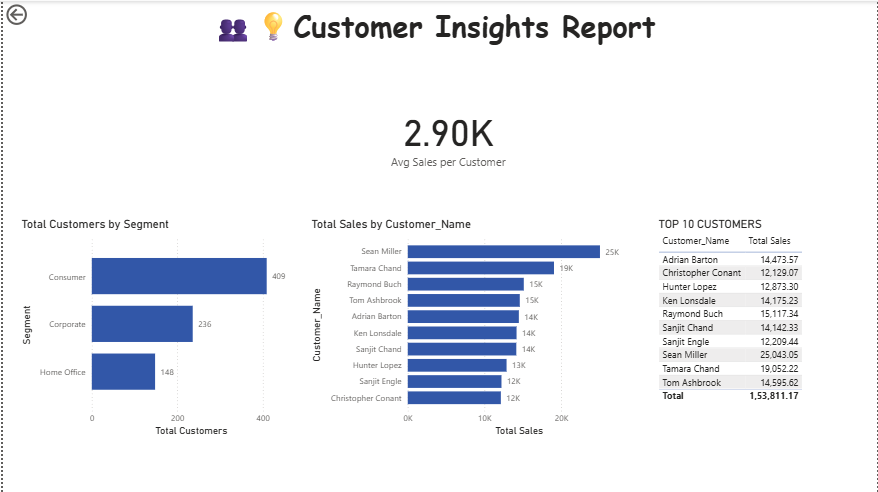

The page's visual inventory and layout, read from the dashboard file:
{"tool":"powerbi","page":{"name":"Customer Insights","canvas":[1280,720],"ordinal":1},"visuals":[{"type":"card","fields":{"Values":["Measure_Table.Avg Sales per Customer"]},"box":[552.3,106.2,200,180],"z":0},{"type":"tableEx","title":"TOP 10 CUSTOMERS","fields":{"Values":["Customers.Customer_Name","Measure_Table.Total Sales"]},"box":[954.3,315.7,292.9,318.6],"z":1000},{"type":"clusteredBarChart","fields":{"Category":["Customers.Segment"],"Y":["Measure_Table.Total Customers"]},"box":[21.4,315.7,414.3,325.7],"z":2000},{"type":"clusteredBarChart","fields":{"Category":["Customers.Customer_Name"],"Y":["Measure_Table.Total Sales"]},"box":[445.7,315.7,487.1,325.7],"z":3000},{"type":"textbox","box":[303.1,0,726.2,76.9],"z":4000},{"type":"actionButton","box":[0,0,100,40],"z":5000}]}

Visuals, with their boxes in screenshot pixels (x1, y1, x2, y2), scaled from the page's 1280x720 canvas onto the 878x492 screenshot:
card - Measure_Table.Avg Sales per Customer: {"left": 379, "top": 73, "right": 516, "bottom": 196}
"TOP 10 CUSTOMERS" tableEx: {"left": 655, "top": 216, "right": 856, "bottom": 433}
clusteredBarChart - Customers.Segment x Measure_Table.Total Customers: {"left": 15, "top": 216, "right": 299, "bottom": 438}
clusteredBarChart - Customers.Customer_Name x Measure_Table.Total Sales: {"left": 306, "top": 216, "right": 640, "bottom": 438}
textbox: {"left": 208, "top": 0, "right": 706, "bottom": 53}
actionButton: {"left": 0, "top": 0, "right": 69, "bottom": 27}
